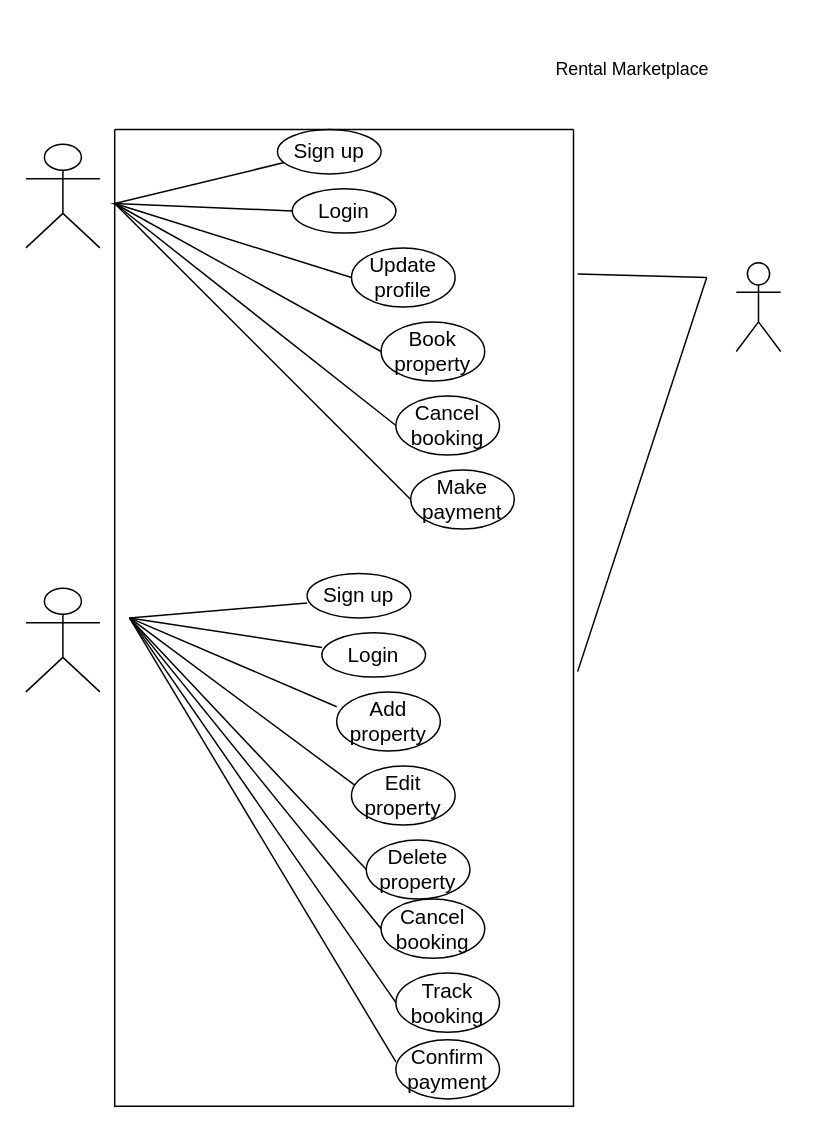
This 821x1132 diagram has some shape labels left out. Each missing label, with the centre of its shape:
"Admin" belongs at [758,306].
"Guest" belongs at [62,195].
"Host" belongs at [62,639].
